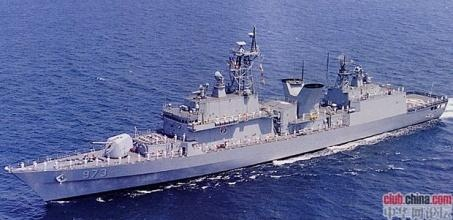warship: (5, 31, 450, 198)
